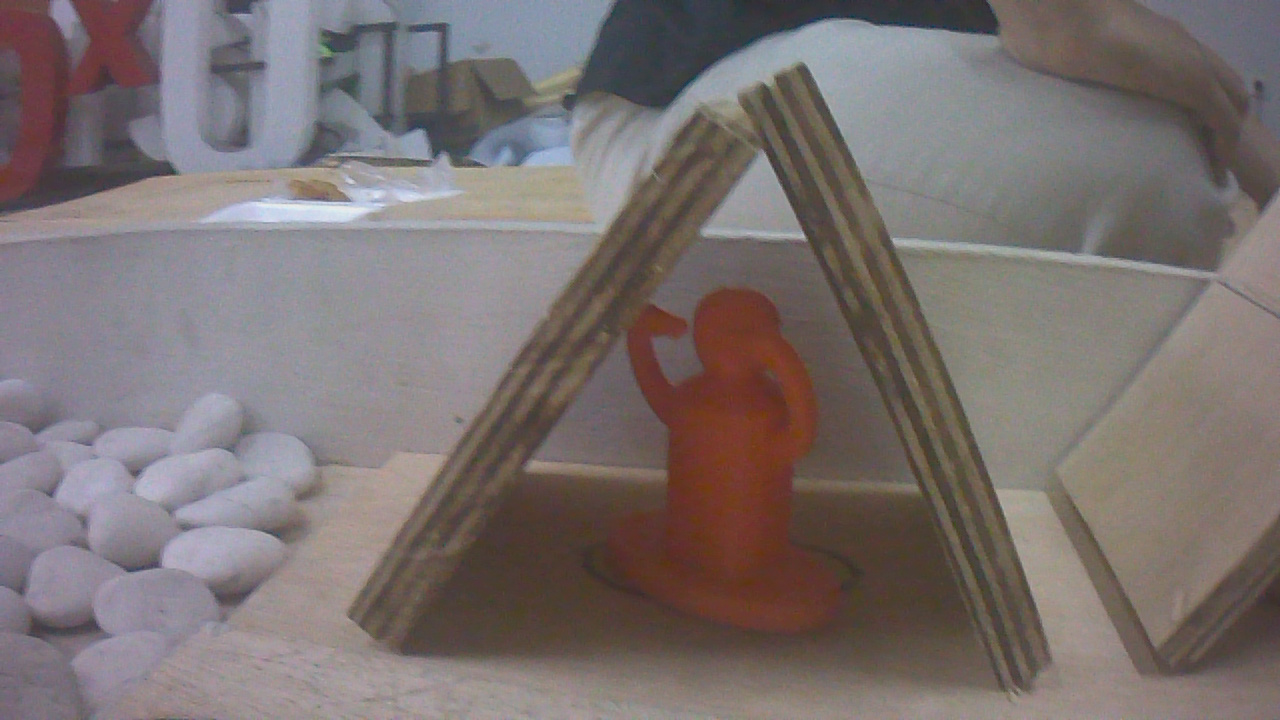real: (618, 281, 838, 629)
